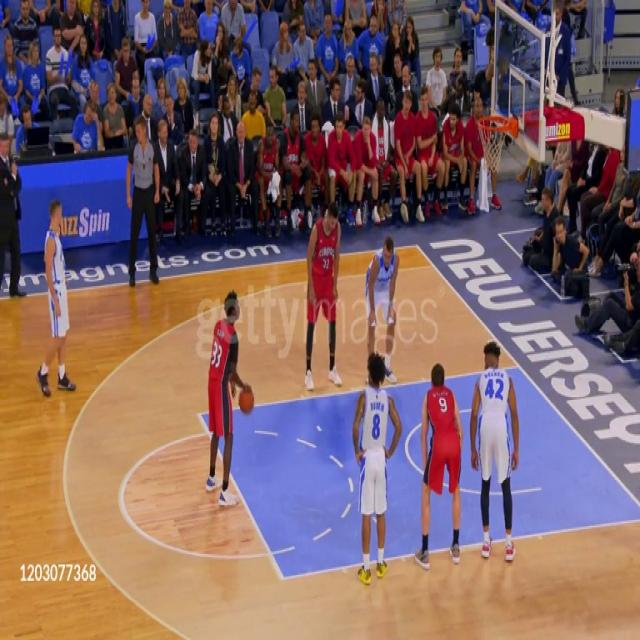ball: (237, 385, 255, 415)
